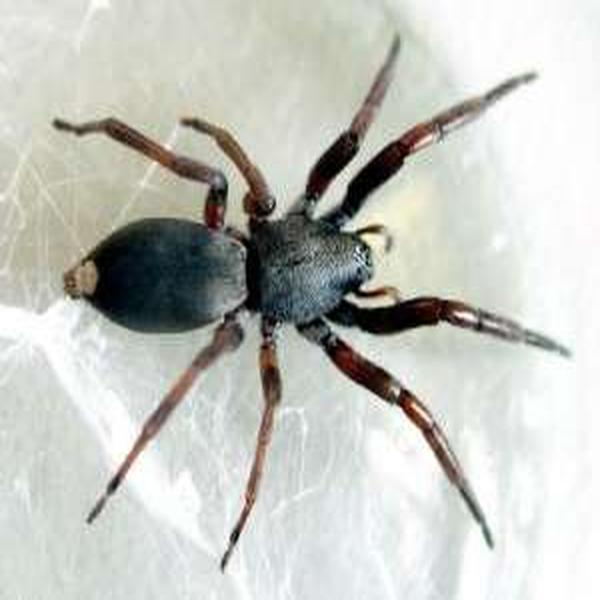White-Tailed Spider: (65, 62, 533, 550)
